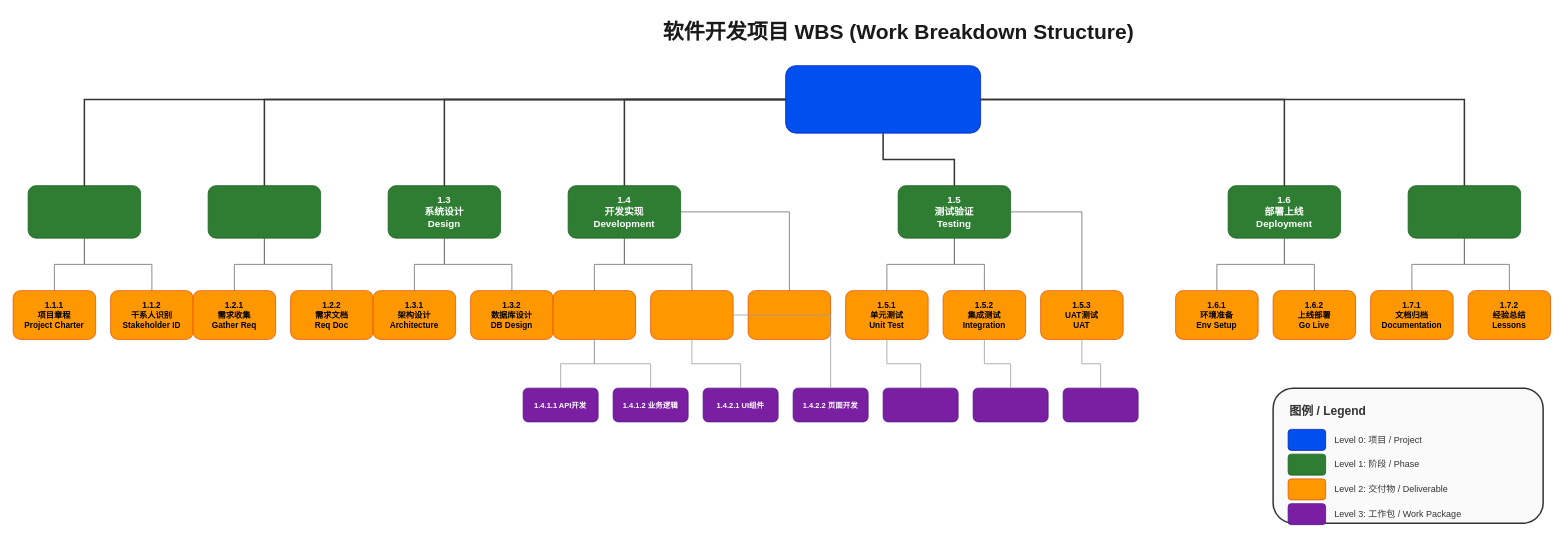
Some shapes in this 1564 by 538 pixel diagram are drawn without their labels. Here are the shapes that lost their labels. From the top down, the centre of each, then its label:
At [883,99]: "1.0 软件开发项目 Software Development".
At [84,211]: "1.1 项目启动 Initiation".
At [264,211]: "1.2 需求分析 Requirements".
At [1464,211]: "1.7 项目收尾 Closure".
At [594,314]: "1.4.1 后端开发 Backend".
At [691,314]: "1.4.2 前端开发 Frontend".
At [789,314]: "1.4.3 API集成 Integration".
At [920,404]: "1.5.1.1 后端测试".
At [1010,404]: "1.5.2.1 接口测试".
At [1100,404]: "1.5.3.1 验收测试".
